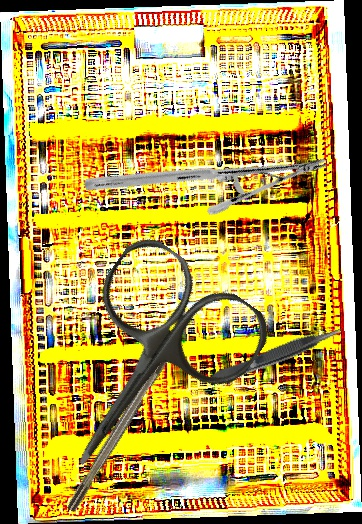Hook Surgical: (64, 322, 190, 513)
Iris Scissors: (10, 228, 279, 511)
Needle Holder: (81, 62, 330, 286)
Tissue Forceps: (207, 322, 346, 388)
